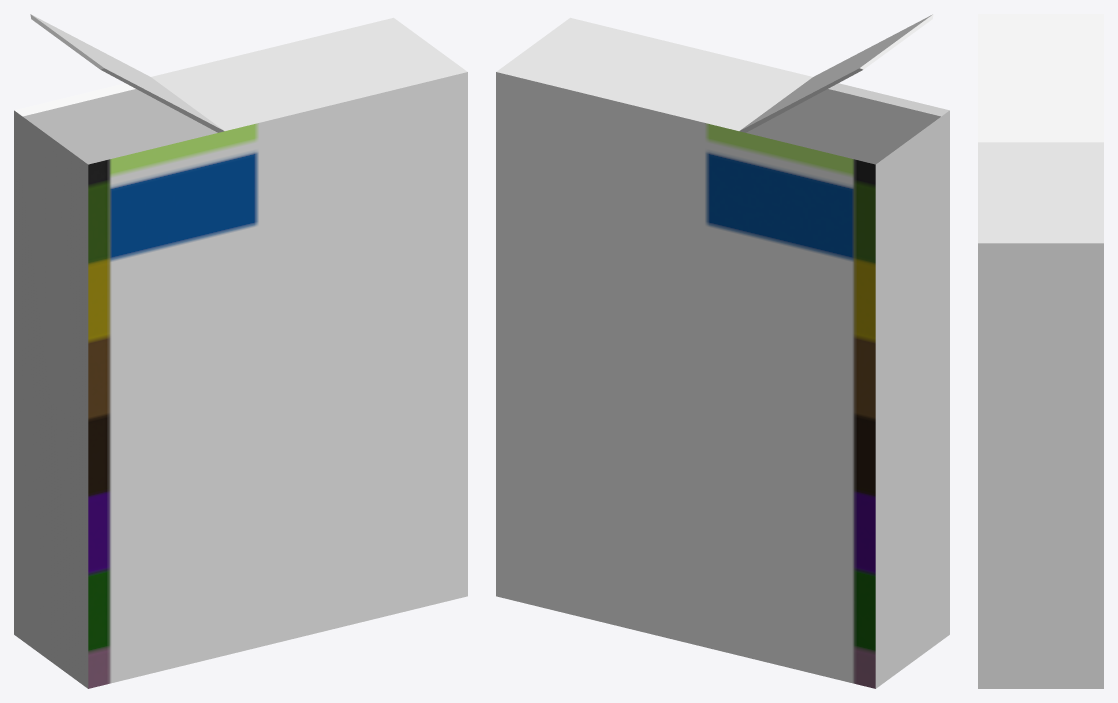
File: baking_soda.fbx
3 views of the same model, side by side, from view 1: azimuth 30°, elevation 25°; view 2: azimuth 150°, elevation 25°; view 3: azimuth 270°, elevation 25° (orthographic). The views are drawn at different scales.
Parts seen in each view (by area): view 1: baking_soda; view 2: baking_soda; view 3: baking_soda.
Boxes of the visible parts, <box> form: baking_soda: <box>14,14,467,688</box>; baking_soda: <box>496,14,949,688</box>; baking_soda: <box>978,14,1103,688</box>.
Size of the model in its own units: 300 by 465 by 101.
